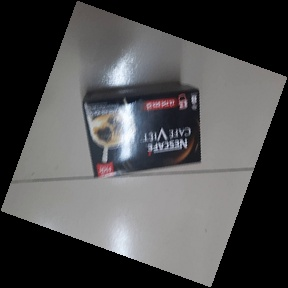CF Viet: (80, 81, 202, 178)
